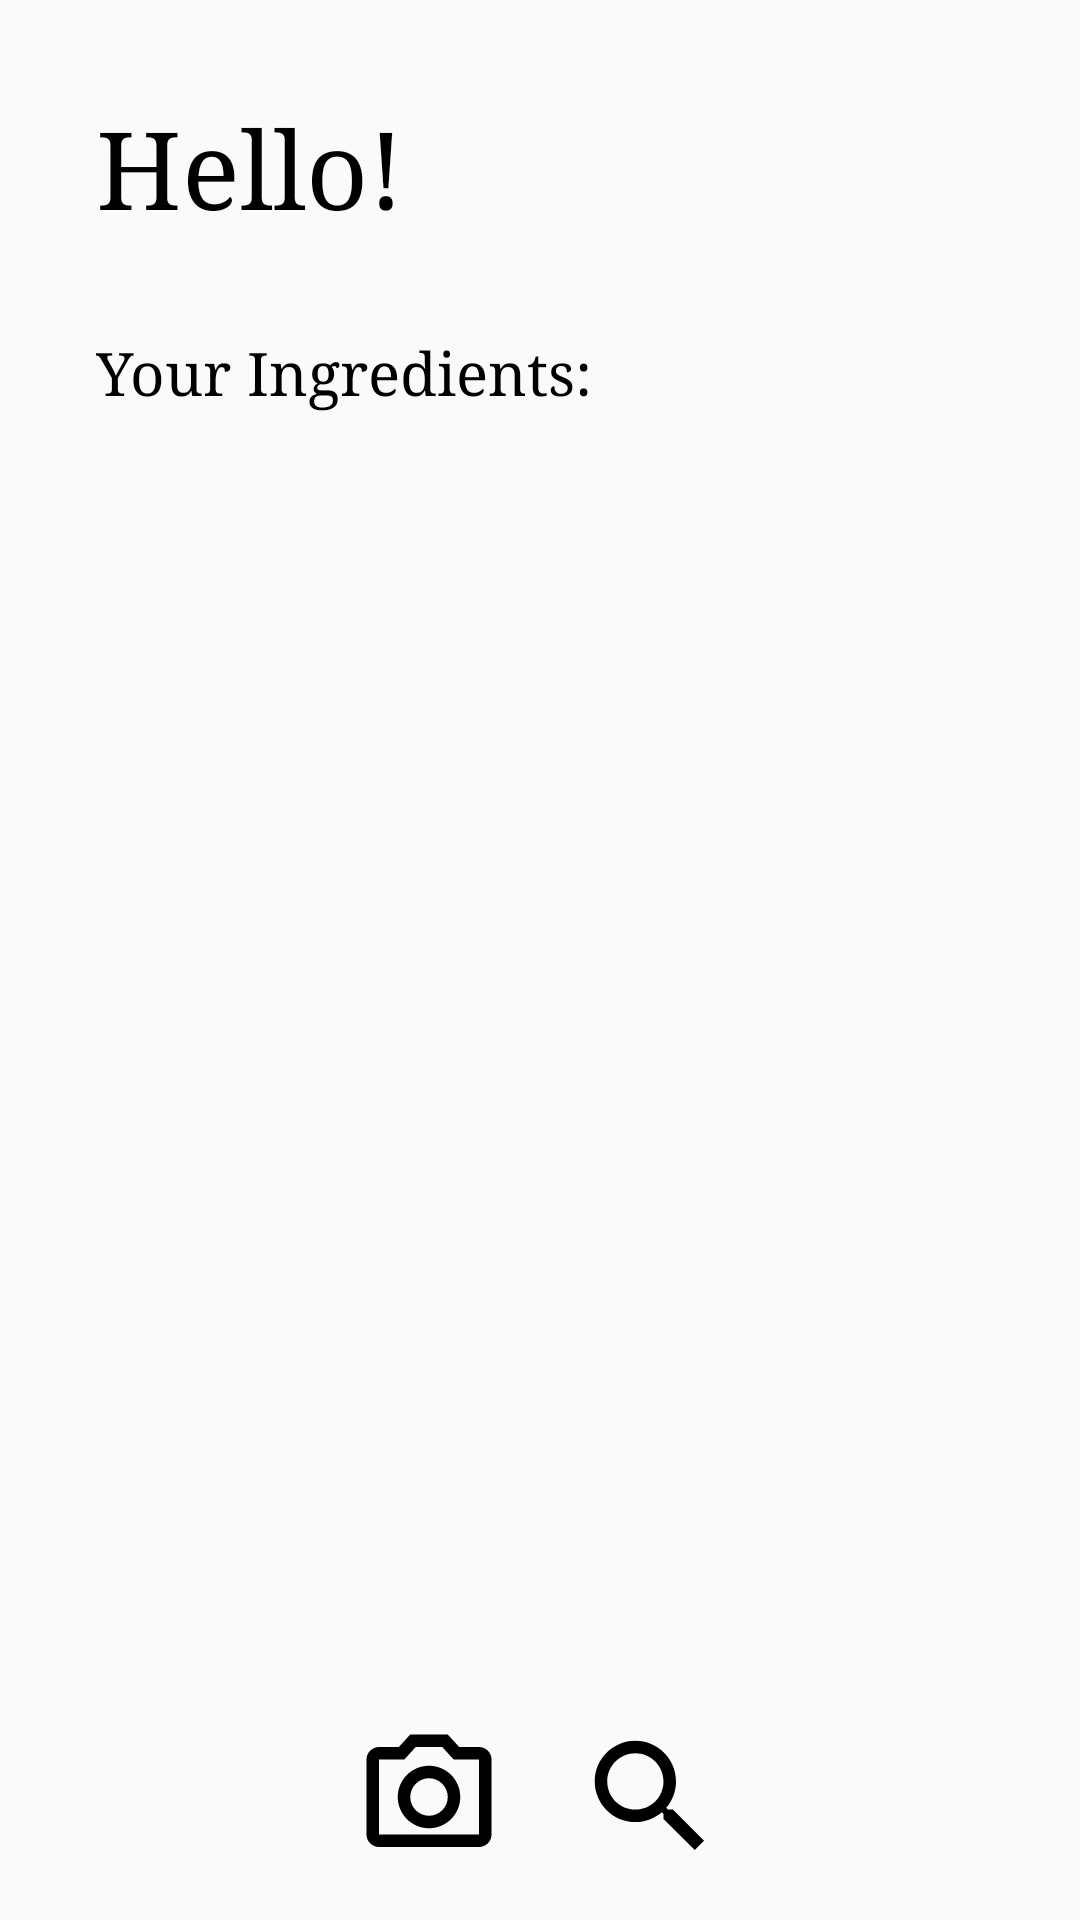

Icon bounding boxes for this 1080px x 1920px phone screenshot, format (x1=x1, y1=y1, x2=x2, y2=y2):
photo camera: (x1=366, y1=1734, x2=492, y2=1847)
search: (x1=594, y1=1740, x2=704, y2=1850)
